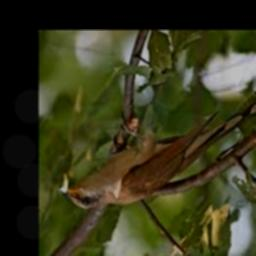Cuckoo: (58, 84, 256, 209)
